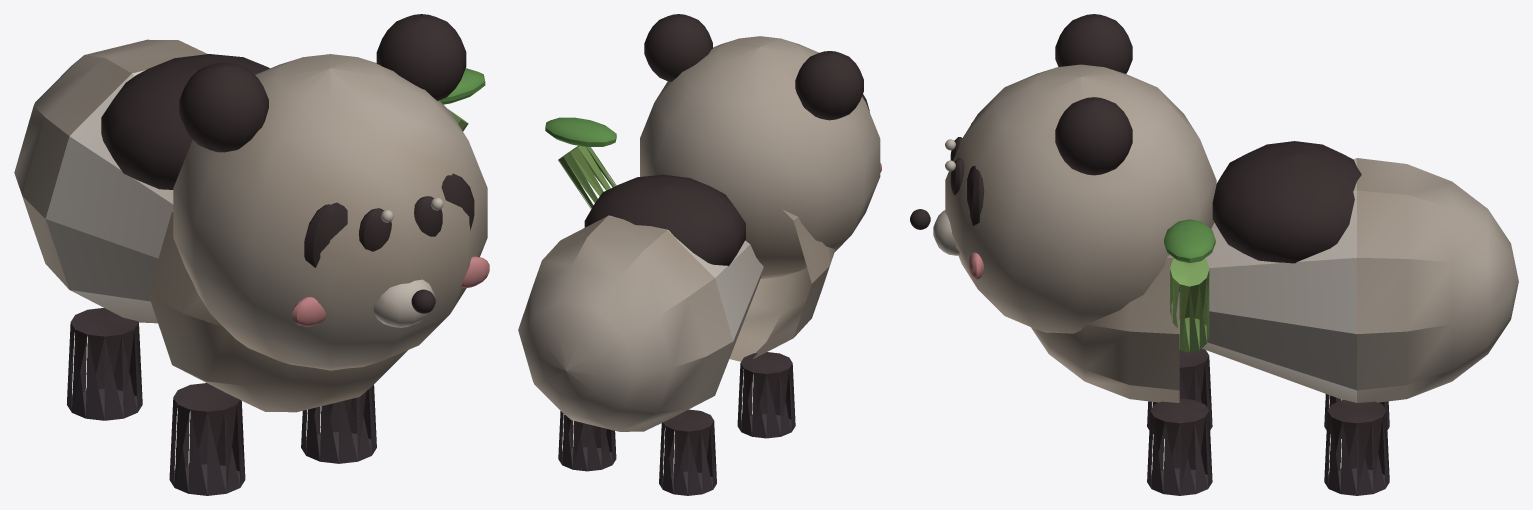
The picture shows the model from 3 angles, left to right: view 1: azimuth 30°, elevation 25°; view 2: azimuth 150°, elevation 25°; view 3: azimuth 270°, elevation 25°; orthographic projection. The views are drawn at different scales.
Parts seen in each view (by area): view 1: pet_pe490d8e1; view 2: pet_pe490d8e1; view 3: pet_pe490d8e1.
Part boxes in pixels (box(x1,y1,x2,y2)): pet_pe490d8e1: box(14, 14, 489, 495); pet_pe490d8e1: box(518, 14, 881, 495); pet_pe490d8e1: box(910, 14, 1518, 495).
Bounding box in the file's own units: 0.538 × 0.6655 × 0.929.
